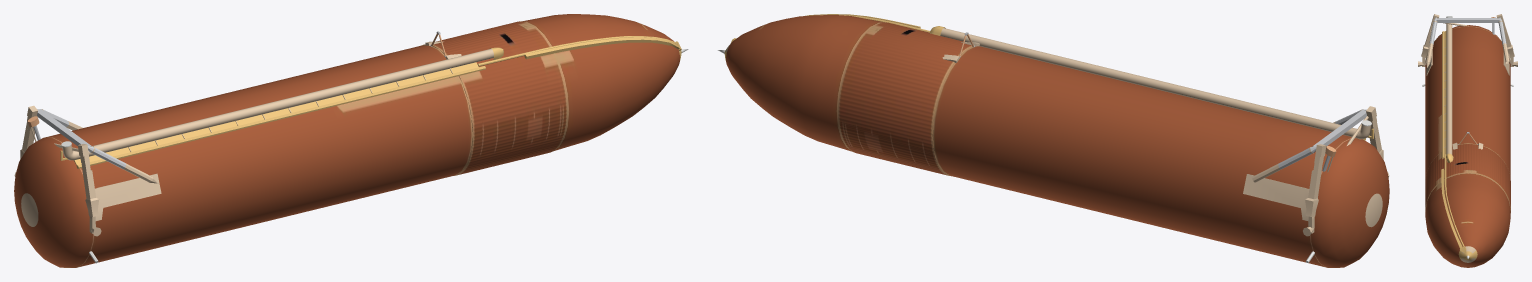
File: shuttle-external-tank.glb
The picture shows the model from 3 angles, left to right: view 1: azimuth 30°, elevation 25°; view 2: azimuth 150°, elevation 25°; view 3: azimuth 270°, elevation 25°; orthographic projection. The views are drawn at different scales.
Visible parts, largest first — view 1: et_all.lay; view 2: et_all.lay; view 3: et_all.lay.
Boxes of the visible parts, x1=… form: et_all.lay: x1=14, y1=14, x2=688, y2=267; et_all.lay: x1=717, y1=14, x2=1389, y2=267; et_all.lay: x1=1418, y1=14, x2=1517, y2=267.
Bounding box in the file's own units: 46.9 × 9.47 × 9.68.
6 materials, 1 textured.
